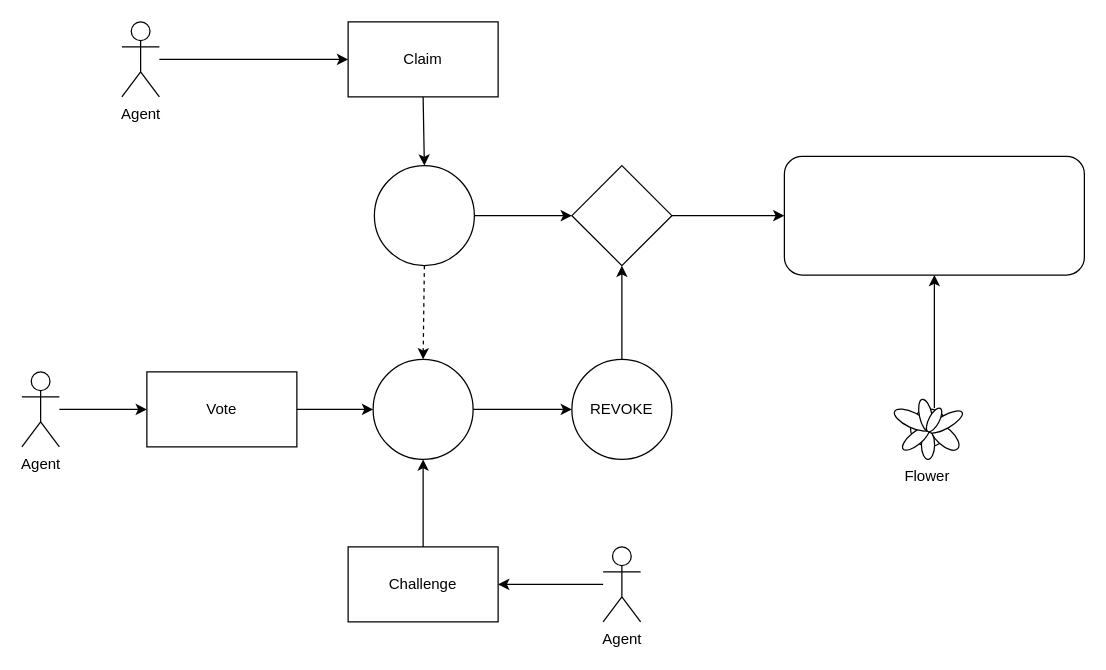
The diagram is 1106 pixels wide and 670 high, and some of its shapes have lost their labels. Here are the shapes that lost their labels. From the top down, the centre of each, then its label:
At (x=423, y=215): "VALID".
At (x=621, y=215): "Resolution".
At (x=933, y=215): "Blockchain".
At (x=422, y=408): "DISPUTE".
